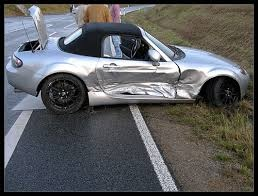Dent: (81, 69, 209, 96)
